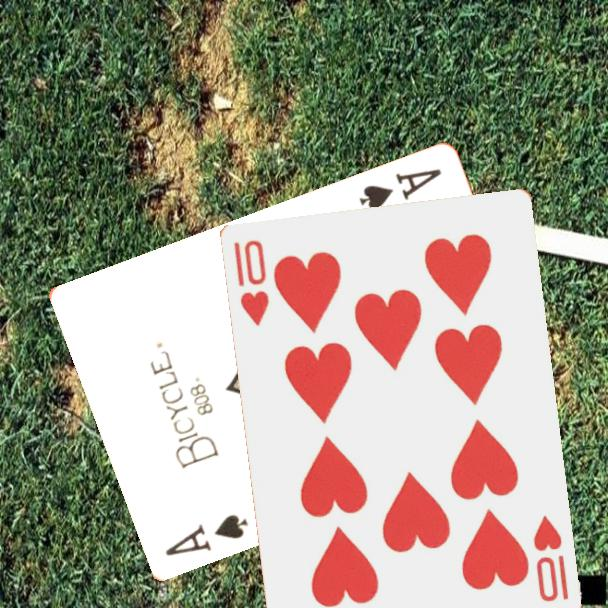h10: (230, 237, 273, 329), (530, 512, 572, 605)
s01: (161, 511, 251, 560), (355, 165, 444, 214)
